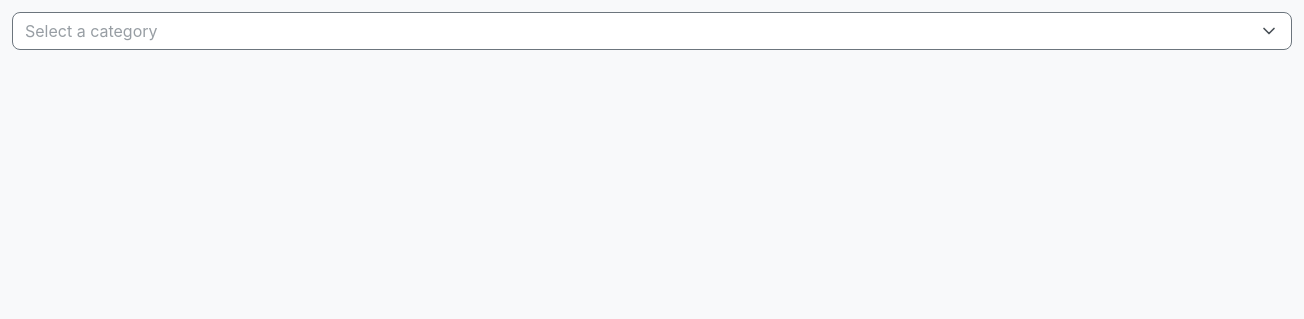
Scenario: BaseSelect › opens list on Enter or Space key press
Press Enter in the button with class "custom-select__trigger", box [12, 12, 1292, 50]
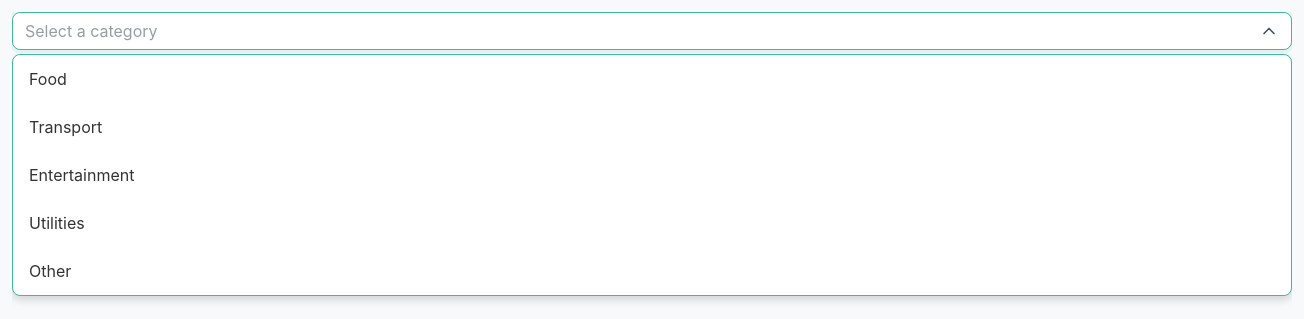
Expected: the element with class "custom-select__dropdown" is shown
Click the button with class "custom-select__trigger" at (91, 31), box [12, 12, 1292, 50]
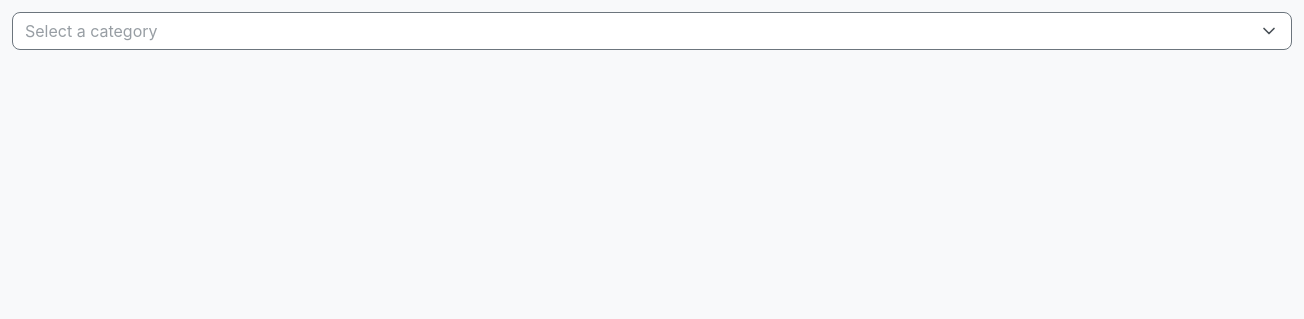
Press Space in the button with class "custom-select__trigger", box [12, 12, 1292, 50]
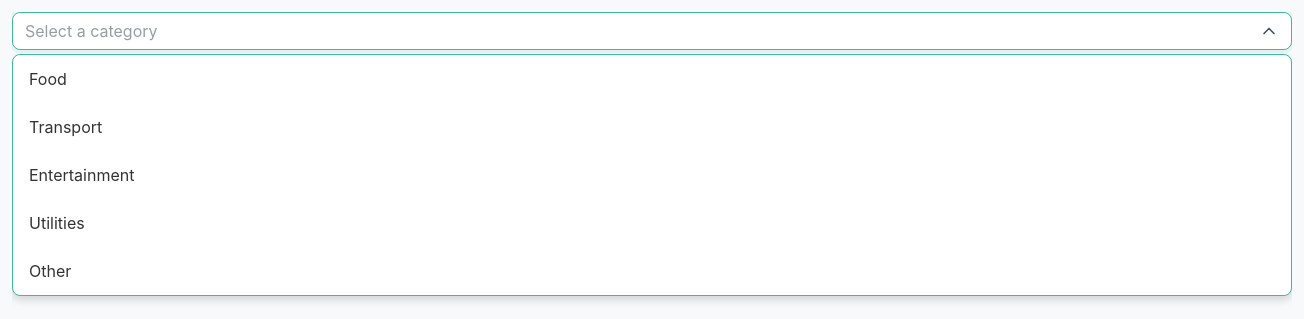
Expected: the element with class "custom-select__dropdown" is shown
